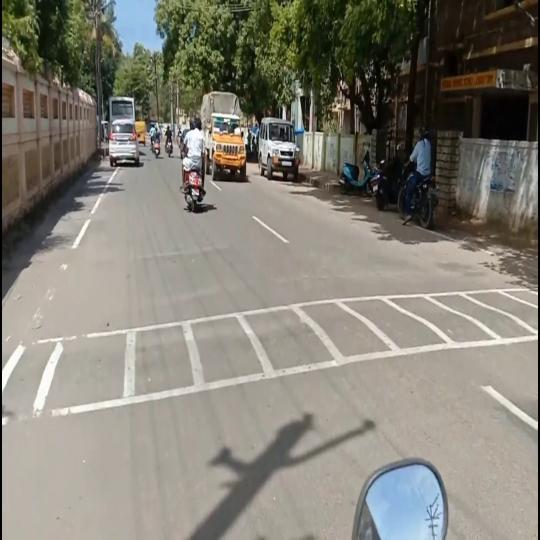Speed Bump: (1, 285, 538, 422)
